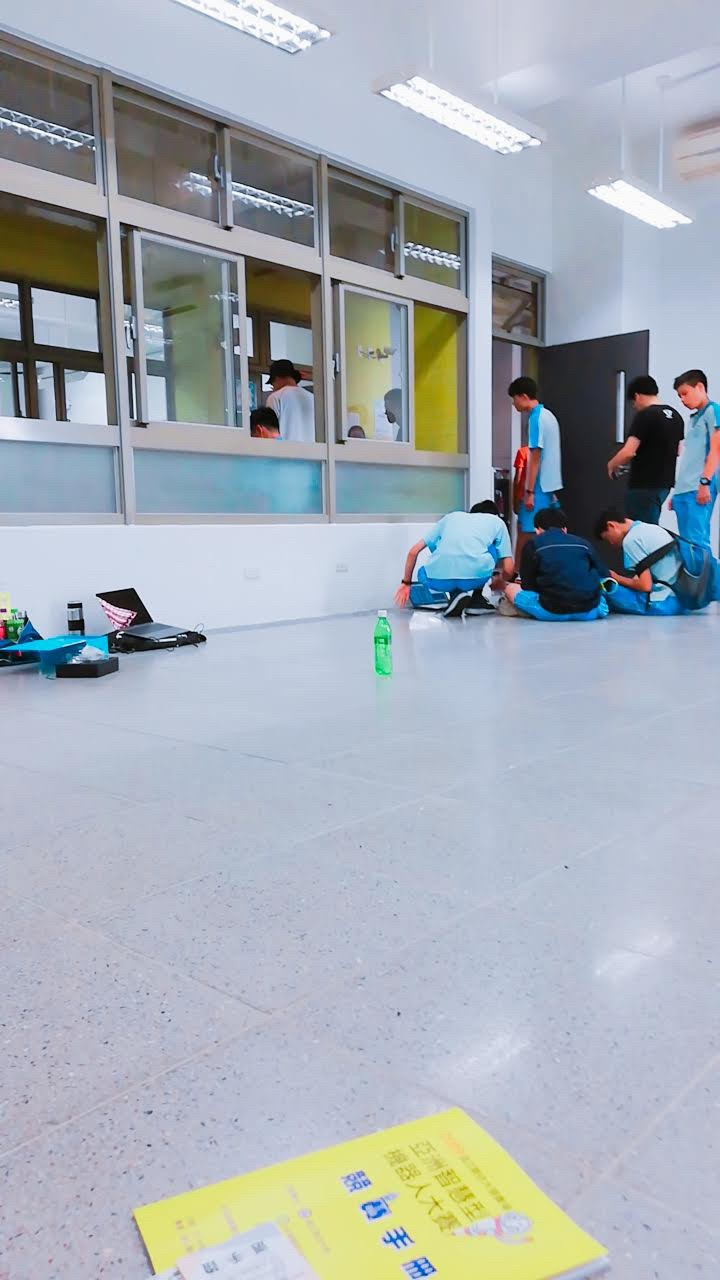people: (407, 482, 514, 631), (489, 380, 581, 535), (665, 365, 720, 596), (591, 492, 691, 619), (603, 372, 687, 521), (524, 506, 595, 633), (250, 351, 330, 461)
